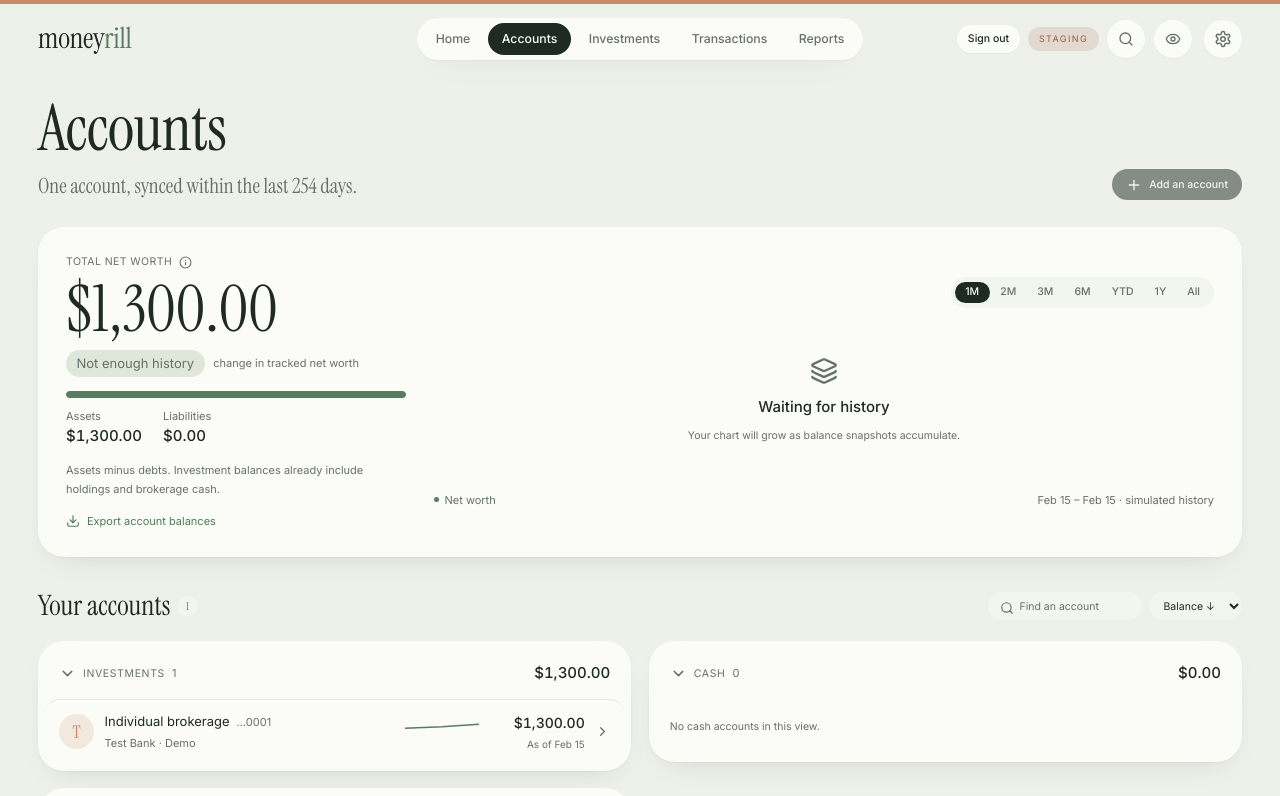
Test: Portfolio return › when the cash flows cannot be loaded it says value change, and has no Contributed
This screenshot has width=1280, height=796.
Check: the text "TOTAL NET WORTH" is shown, box [66,255,192,269]
Click the link "Investments".
click(624, 38)  # box [589,31,660,46]
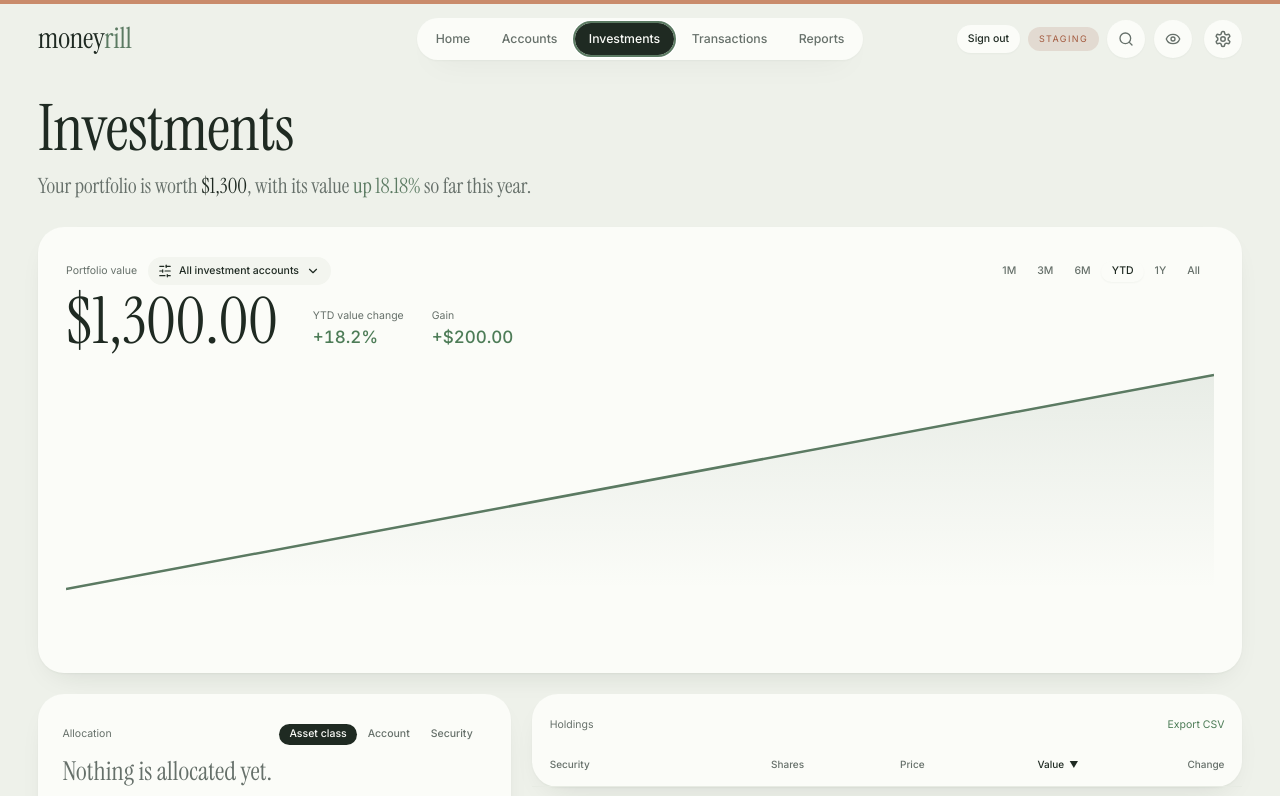
Check: the text "Portfolio value" is shown, box [66,264,137,278]
Check: the text "+18.2%" is shown, box [313,327,378,347]
Check: the text "+$200.00" is shown, box [432,326,513,349]
